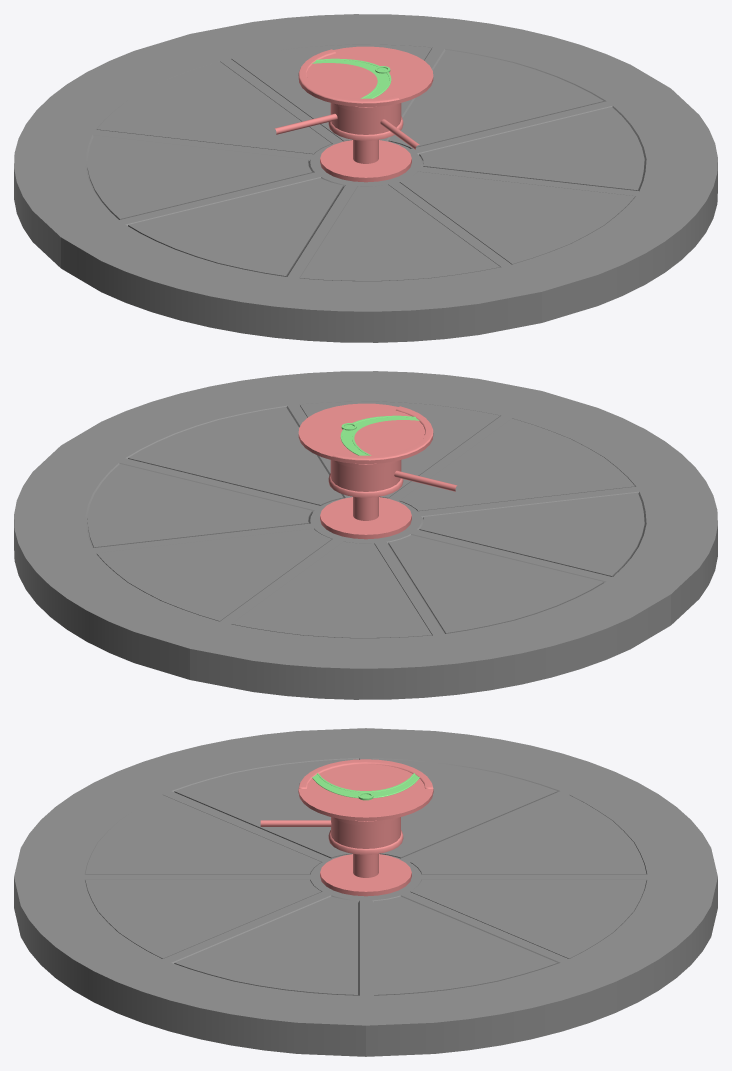
Rendered from RocketStation_Corridor_SpaceBase_01.gltf.
3 renders of one model, top to bottom at view 1: azimuth 30°, elevation 25°; view 2: azimuth 150°, elevation 25°; view 3: azimuth 270°, elevation 25°, orthographic.
Visible parts, largest first — view 1: RocketStation_Corridor_SpaceBase_01; view 2: RocketStation_Corridor_SpaceBase_01; view 3: RocketStation_Corridor_SpaceBase_01.
Boxes of the visible parts, box(x1,y1,x2,y2) form: RocketStation_Corridor_SpaceBase_01: box(14, 14, 717, 342); RocketStation_Corridor_SpaceBase_01: box(14, 371, 717, 699); RocketStation_Corridor_SpaceBase_01: box(14, 728, 717, 1056).
Bounding box in the file's own units: 20.46 × 3.95 × 20.46.
